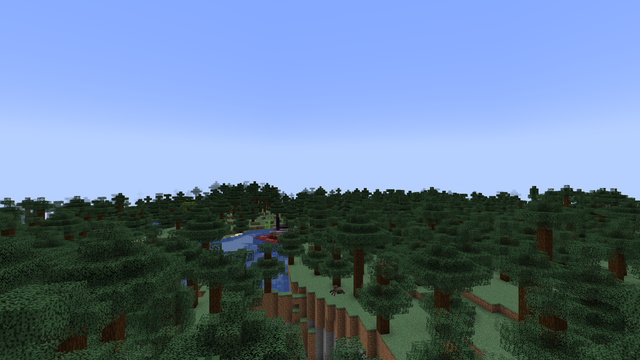araignees: (331, 284, 343, 295)
